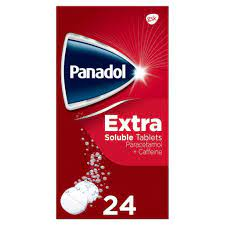Panadol Extra: (103, 115, 164, 136), (71, 64, 133, 80)
